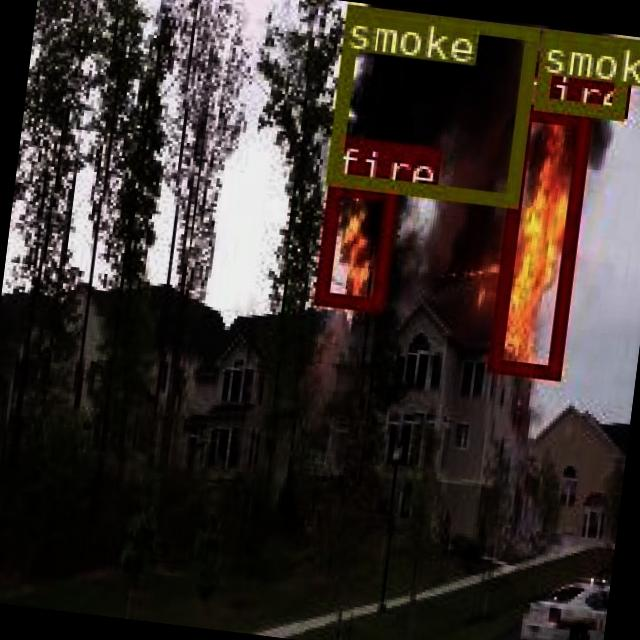fire: (484, 102, 588, 378), (312, 179, 396, 308)
smoke: (324, 2, 538, 205), (534, 25, 630, 115)
